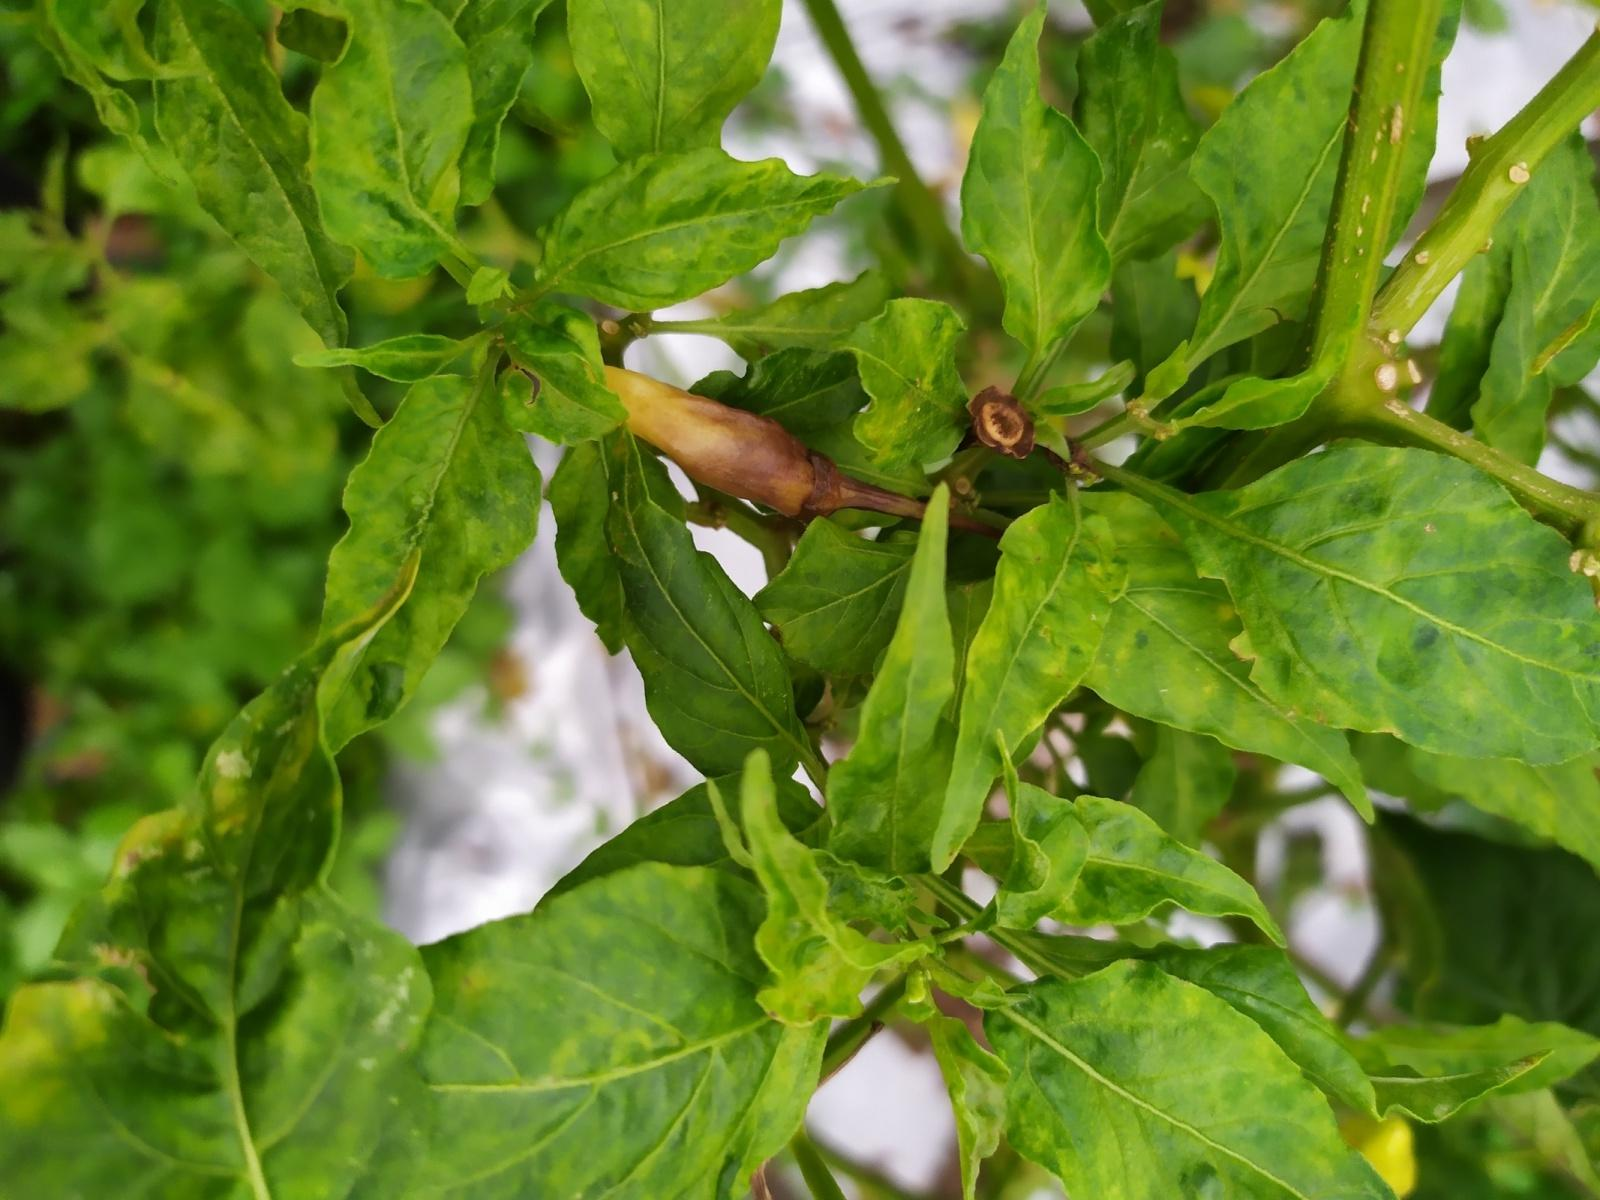lalat_buah: (601, 363, 821, 518)
